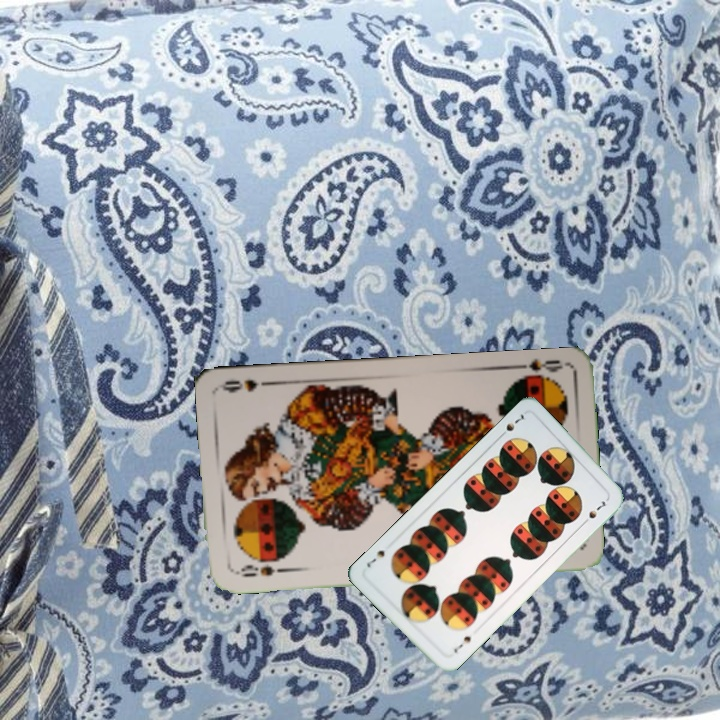S7: (495, 410, 529, 441), (450, 630, 475, 656)
SO: (509, 355, 568, 384), (230, 560, 289, 579)
